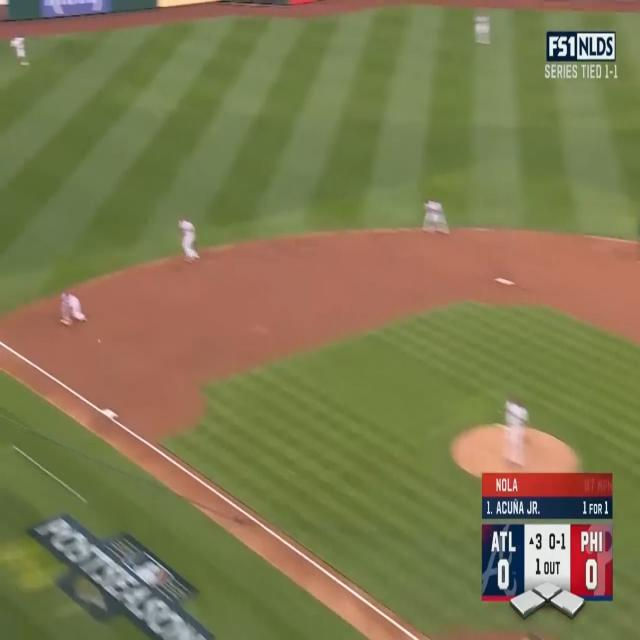baseball: (98, 339, 101, 343)
